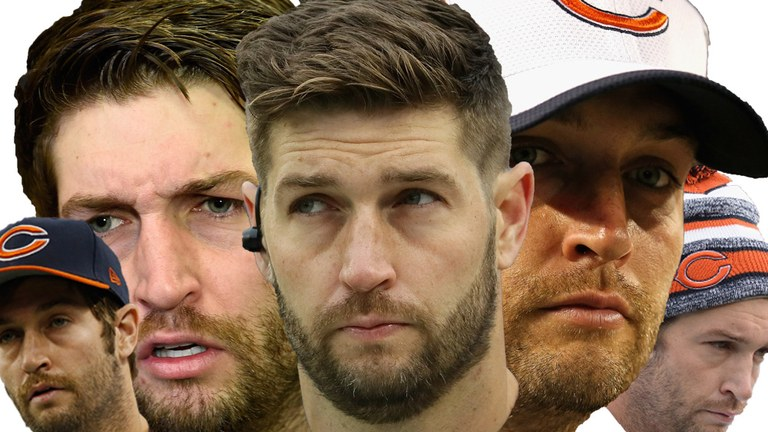sad: (238, 96, 504, 393)
